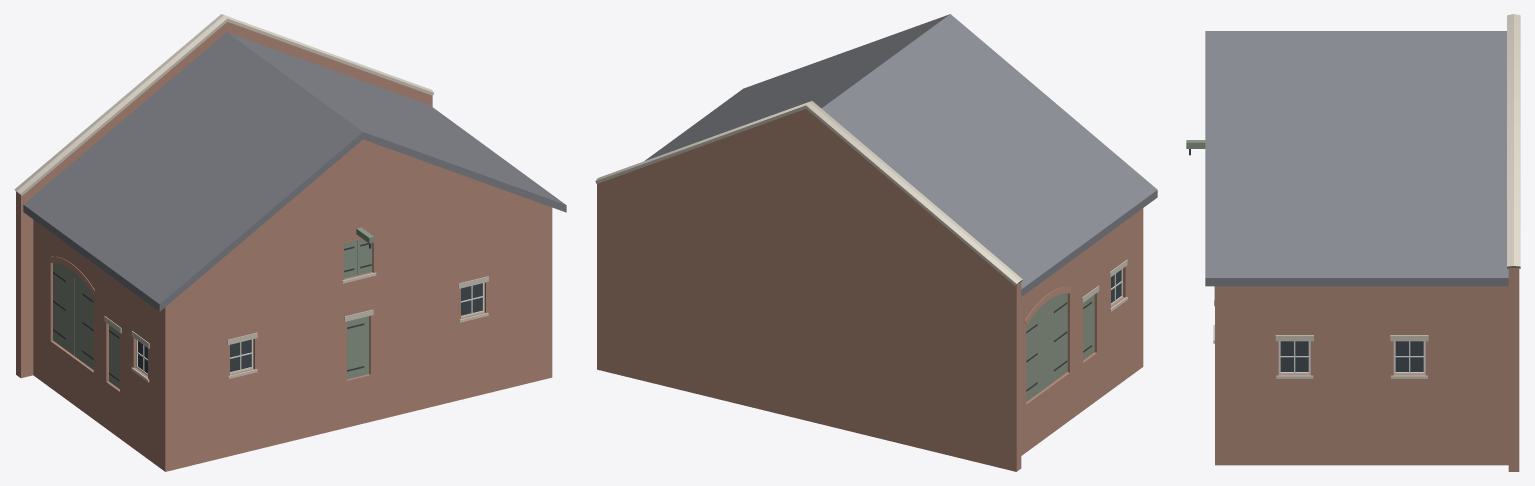
Rendered from kellogg_house_1709_prairie_coach_house__as_standing_1904.glb.
The picture shows the model from 3 angles, left to right: view 1: azimuth 30°, elevation 25°; view 2: azimuth 150°, elevation 25°; view 3: azimuth 270°, elevation 25°; orthographic projection. The views are drawn at different scales.
Visible parts, largest first — view 1: kellogg_house_1709_prairie_coach_house__as_standing_1904; view 2: kellogg_house_1709_prairie_coach_house__as_standing_1904; view 3: kellogg_house_1709_prairie_coach_house__as_standing_1904.
Part boxes in pixels (x1,y1,x2,y2): kellogg_house_1709_prairie_coach_house__as_standing_1904: [14, 14, 566, 471]; kellogg_house_1709_prairie_coach_house__as_standing_1904: [595, 14, 1157, 471]; kellogg_house_1709_prairie_coach_house__as_standing_1904: [1186, 14, 1520, 471].
Bounding box in the file's own units: 16.69 × 11.97 × 10.49.
